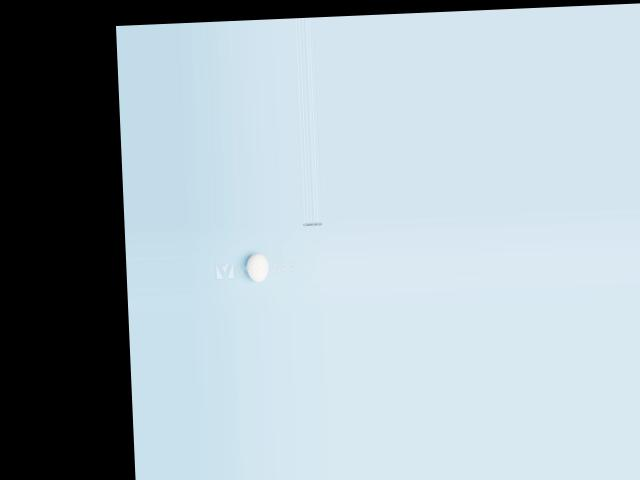egg: (246, 253, 269, 281)
